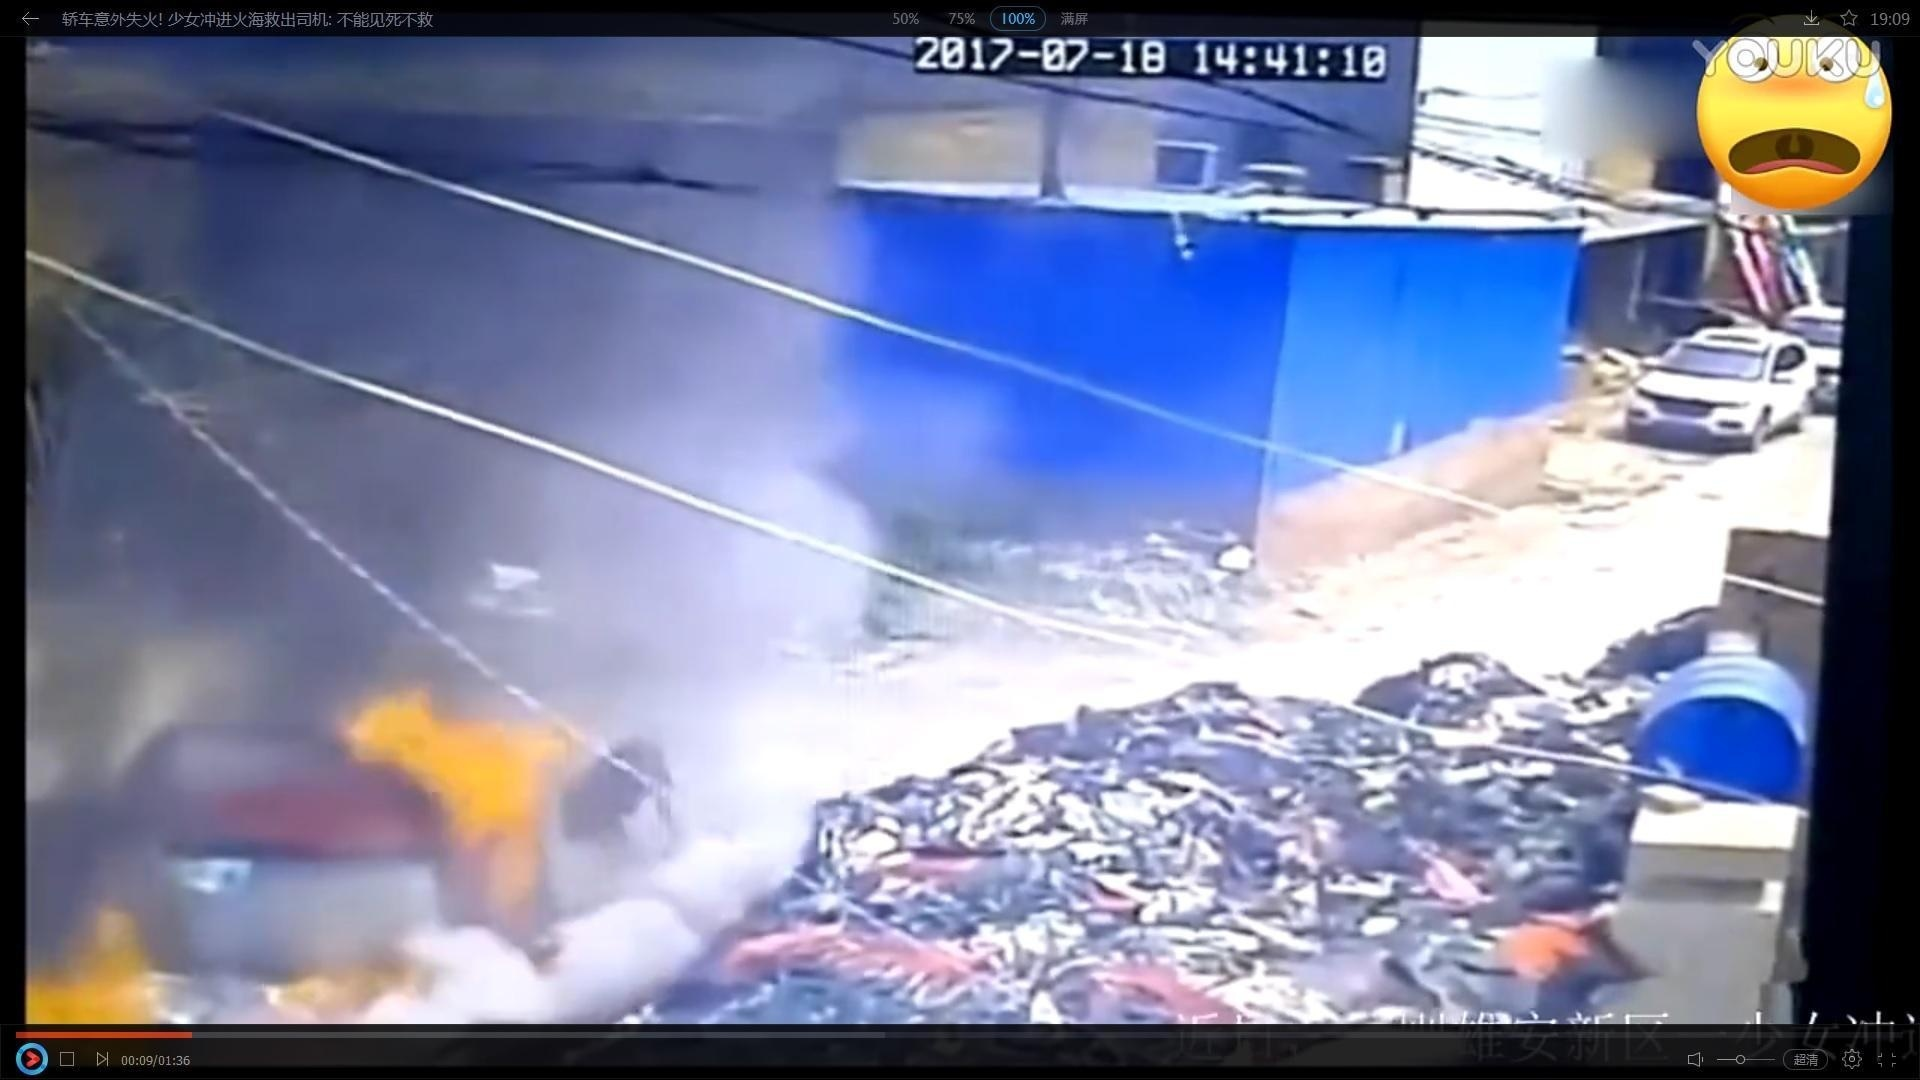fire: (345, 683, 572, 852), (24, 914, 174, 1021)
